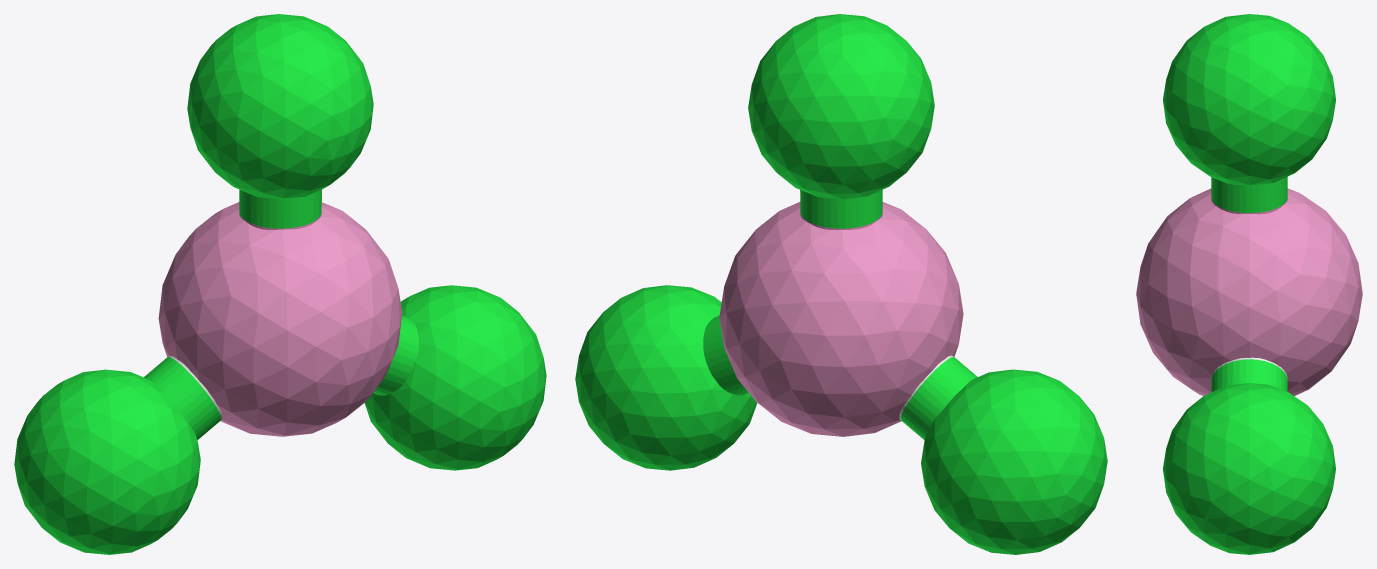
3 views of the same model, side by side, from view 1: azimuth 30°, elevation 25°; view 2: azimuth 150°, elevation 25°; view 3: azimuth 270°, elevation 25° (orthographic). The views are drawn at different scales.
Visible parts, largest first — view 1: Shape_IndexedFaceSet.010, Shape_IndexedFaceSet.013, Shape_IndexedFaceSet.012, Shape_IndexedFaceSet.011, Shape_IndexedFaceSet.019, Shape_IndexedFaceSet.016, Shape_IndexedFaceSet.022; view 2: Shape_IndexedFaceSet.010, Shape_IndexedFaceSet.013, Shape_IndexedFaceSet.012, Shape_IndexedFaceSet.011, Shape_IndexedFaceSet.019, Shape_IndexedFaceSet.016, Shape_IndexedFaceSet.022; view 3: Shape_IndexedFaceSet.010, Shape_IndexedFaceSet.011, Shape_IndexedFaceSet.013, Shape_IndexedFaceSet.016, Shape_IndexedFaceSet.022.
Part boxes in pixels (x1=…): Shape_IndexedFaceSet.010: x1=158, y1=202, x2=402, y2=436; Shape_IndexedFaceSet.013: x1=187, y1=14, x2=373, y2=198; Shape_IndexedFaceSet.012: x1=14, y1=369, x2=200, y2=554; Shape_IndexedFaceSet.011: x1=364, y1=285, x2=546, y2=470; Shape_IndexedFaceSet.019: x1=144, y1=357, x2=221, y2=439; Shape_IndexedFaceSet.016: x1=239, y1=189, x2=321, y2=228; Shape_IndexedFaceSet.022: x1=373, y1=315, x2=418, y2=395; Shape_IndexedFaceSet.010: x1=719, y1=202, x2=963, y2=436; Shape_IndexedFaceSet.013: x1=748, y1=14, x2=934, y2=199; Shape_IndexedFaceSet.012: x1=921, y1=369, x2=1107, y2=554; Shape_IndexedFaceSet.011: x1=575, y1=285, x2=757, y2=470; Shape_IndexedFaceSet.019: x1=900, y1=357, x2=977, y2=439; Shape_IndexedFaceSet.016: x1=800, y1=190, x2=882, y2=228; Shape_IndexedFaceSet.022: x1=703, y1=315, x2=748, y2=395; Shape_IndexedFaceSet.010: x1=1136, y1=188, x2=1362, y2=395; Shape_IndexedFaceSet.011: x1=1163, y1=383, x2=1335, y2=554; Shape_IndexedFaceSet.013: x1=1163, y1=14, x2=1335, y2=185; Shape_IndexedFaceSet.016: x1=1211, y1=176, x2=1287, y2=212; Shape_IndexedFaceSet.022: x1=1211, y1=359, x2=1287, y2=392.
Size of the model in its own units: 0.3743 by 0.3401 by 0.156.
